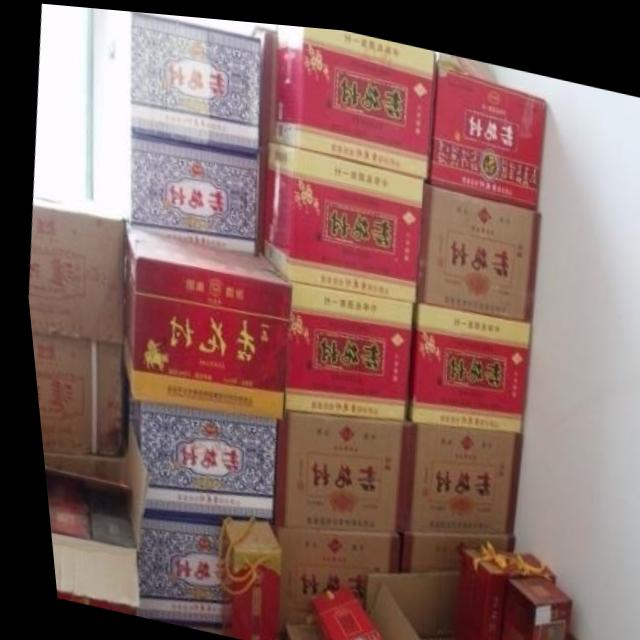box: (116, 224, 285, 418), (256, 135, 423, 295), (268, 19, 435, 171), (275, 276, 410, 416), (128, 9, 261, 151), (410, 169, 536, 315), (116, 398, 270, 515), (428, 57, 546, 199), (396, 294, 526, 421), (261, 404, 397, 524), (256, 515, 390, 634), (125, 131, 258, 250), (23, 185, 120, 344), (383, 415, 516, 525), (34, 453, 125, 610), (116, 505, 212, 622), (25, 334, 116, 456), (208, 513, 272, 640), (355, 562, 448, 640), (439, 541, 510, 640), (482, 561, 561, 640), (250, 22, 276, 252), (386, 521, 505, 570), (298, 584, 370, 640), (503, 544, 545, 573)
